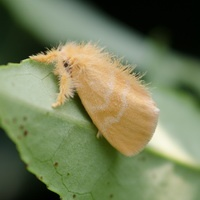insect: (30, 42, 158, 155)
